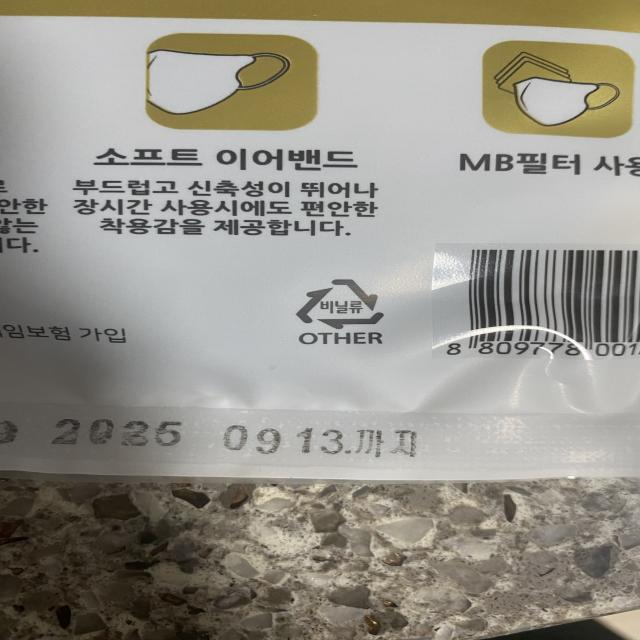Vinyl: (291, 276, 388, 332)
